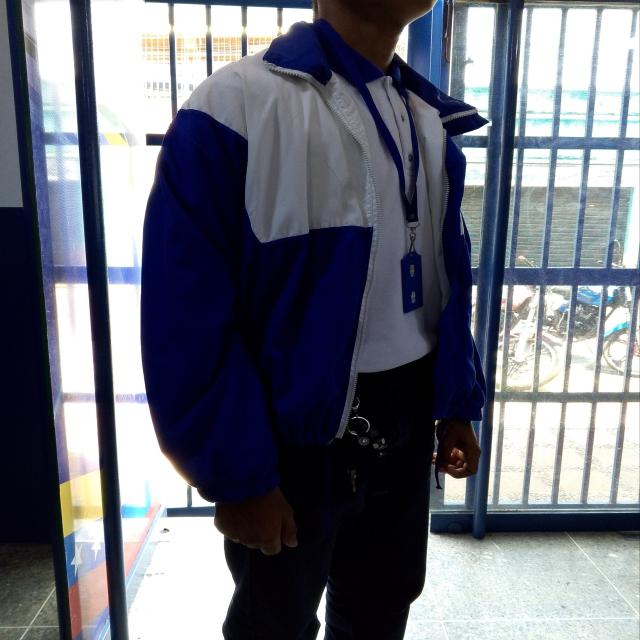carnet: (400, 251, 424, 315)
chaqueta_unefa: (137, 16, 487, 507)
